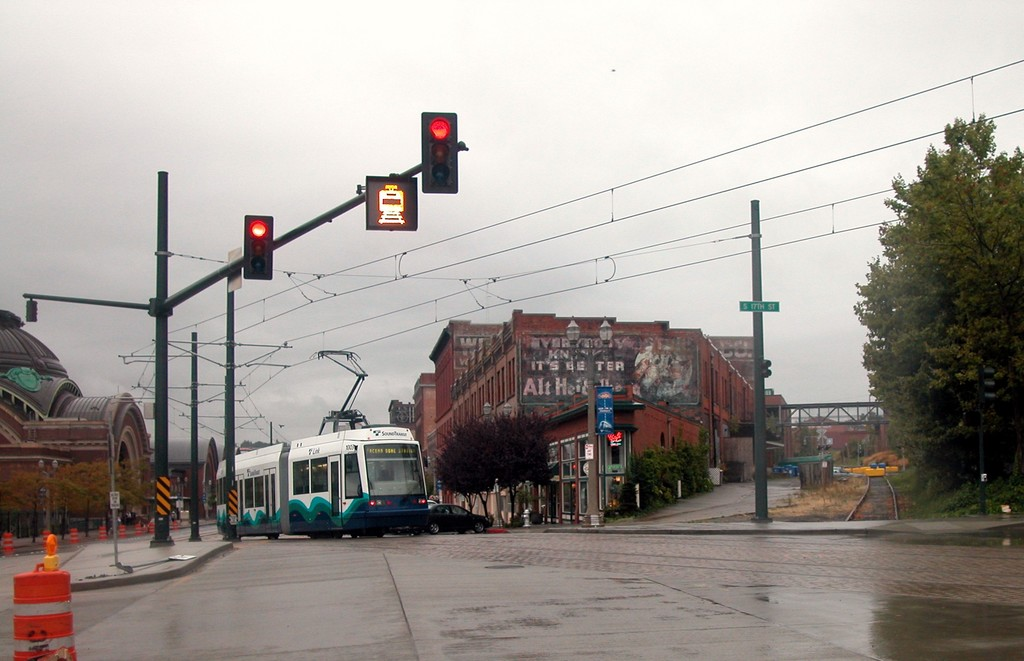red_light: (425, 114, 456, 191), (246, 218, 271, 280)
